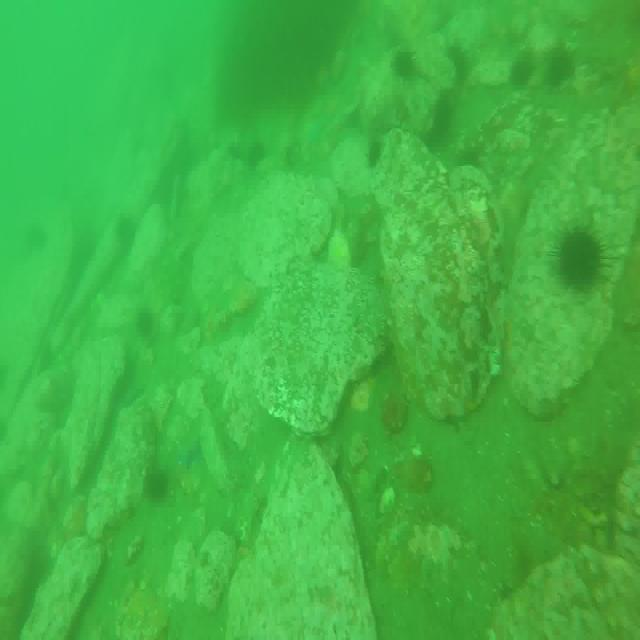echinus: (556, 225, 600, 289), (435, 97, 457, 142), (548, 49, 575, 82), (145, 469, 170, 498), (392, 49, 416, 77), (509, 57, 532, 86), (136, 309, 156, 340), (116, 220, 134, 252), (450, 49, 468, 80), (28, 224, 47, 248), (247, 141, 262, 170), (368, 135, 384, 162)
starfish: (179, 433, 204, 476)
